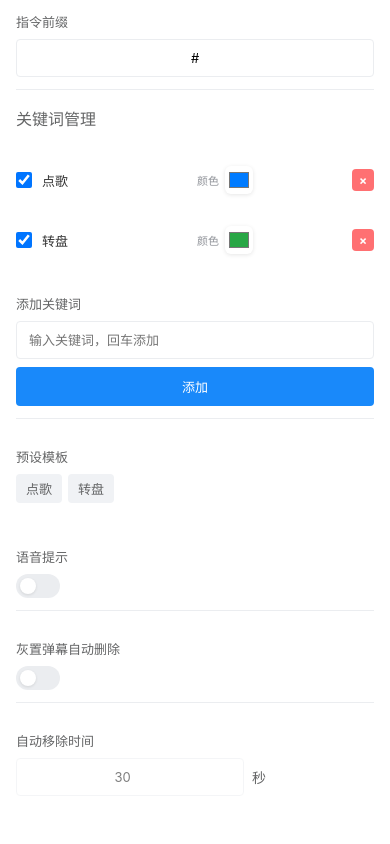
Test case: CommandDanmakuConfig 灰置自动删除配置 › 开启自动删除后时间输入框可编辑并派发配置
This screenshot has width=390, height=844.
Click the checkbox with class "auto-remove-switch": (38, 678) [16,666,60,690]
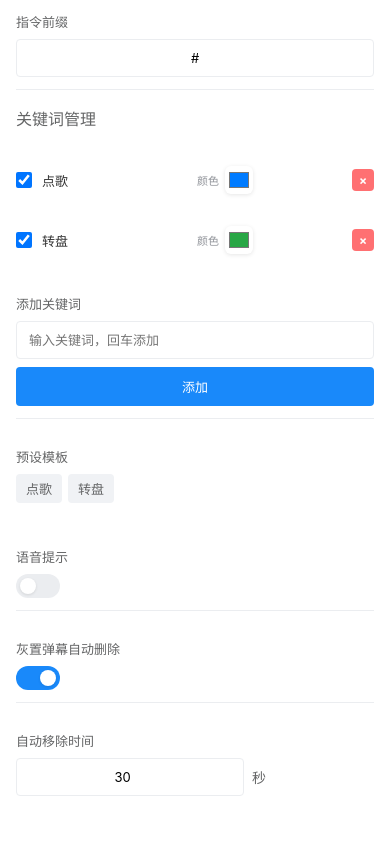
Result: the number field with class "auto-remove-delay" is enabled at [16,758,244,796]
